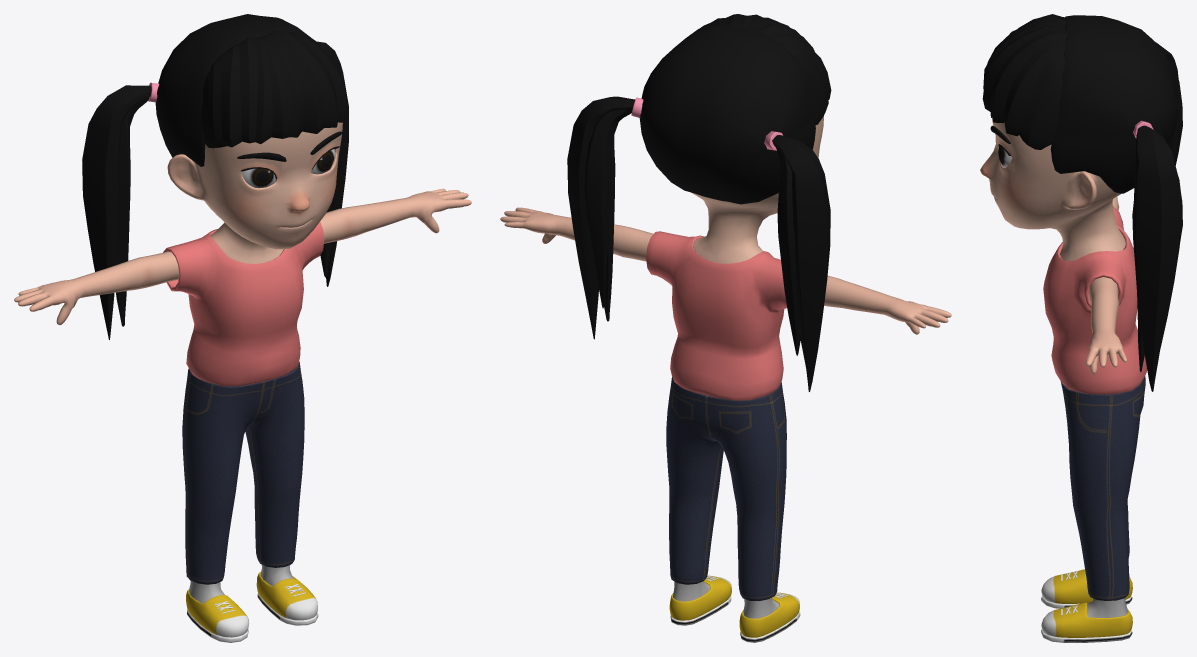
File: cartoon_girl_low_poly.glb
3 views of the same model, side by side, from view 1: azimuth 30°, elevation 25°; view 2: azimuth 150°, elevation 25°; view 3: azimuth 270°, elevation 25° (orthographic).
Visible parts, largest first — view 1: Object_2; view 2: Object_2; view 3: Object_2.
Part boxes in pixels (x1,y1,x2,y2): Object_2: (14,14,471,642); Object_2: (500,14,951,642); Object_2: (980,14,1182,642).
Size of the model in its own units: 3.56 by 4.51 by 1.39.
Materials: 1 (1 with a texture image).
